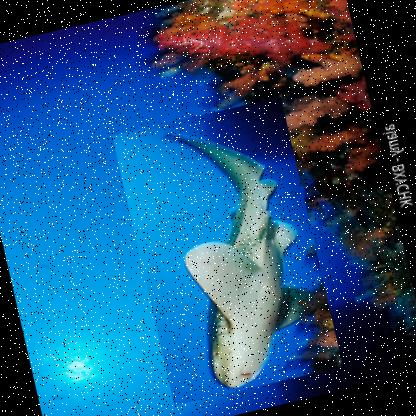zebra_shark: (112, 96, 344, 406)
